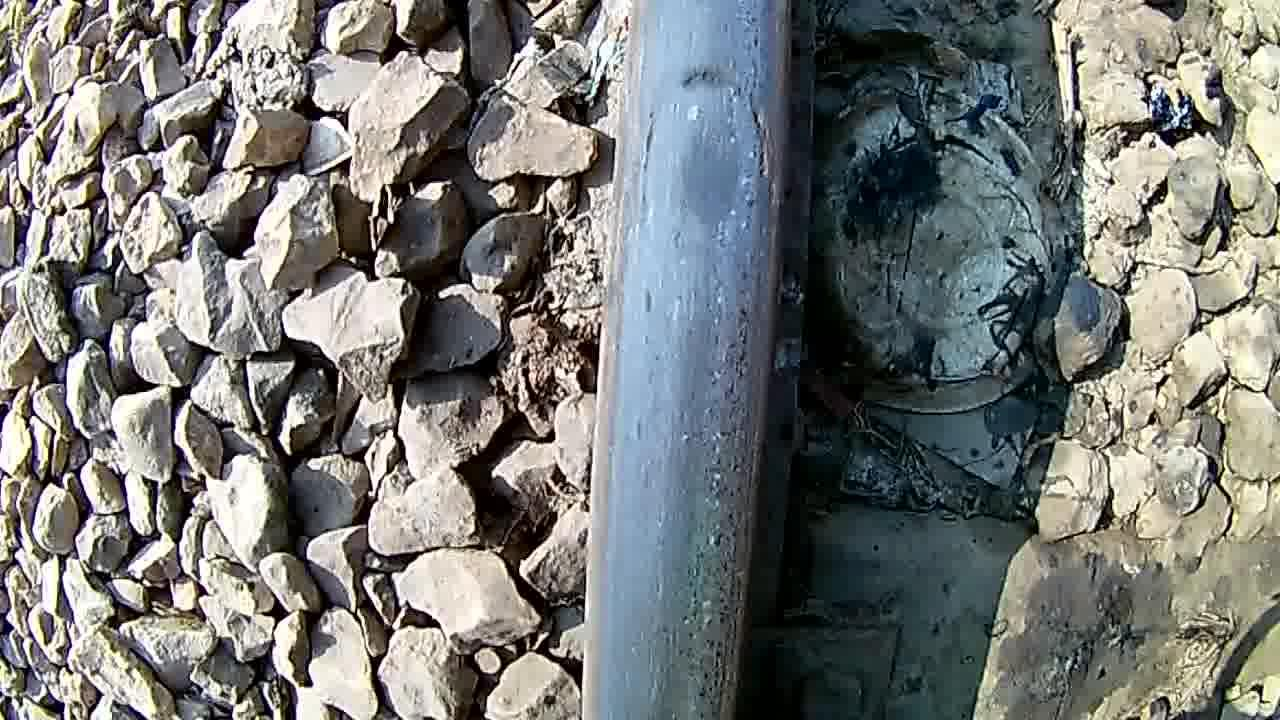bolt_missing: (617, 10, 783, 330)
